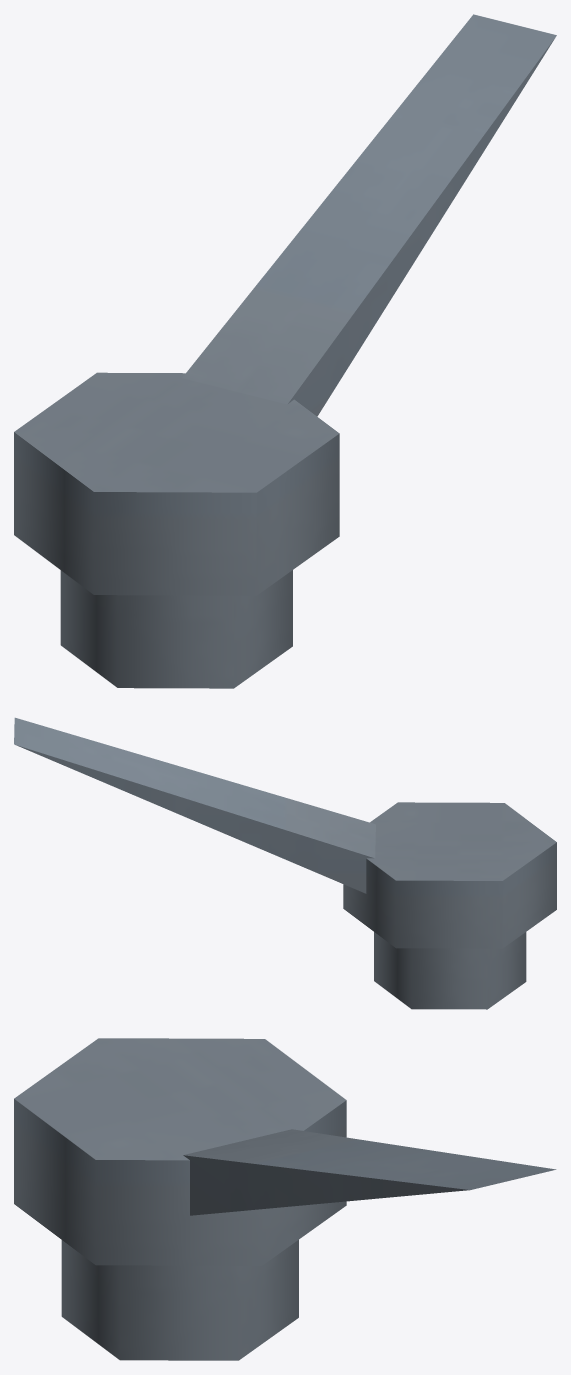
The model's file is Manija_Washbasin.glb.
3 views of the same model, one above another, from view 1: azimuth 30°, elevation 25°; view 2: azimuth 150°, elevation 25°; view 3: azimuth 270°, elevation 25° (orthographic). The views are drawn at different scales.
Parts seen in each view (by area): view 1: Manija_Washbasin; view 2: Manija_Washbasin; view 3: Manija_Washbasin.
Part boxes in pixels (x1=…): Manija_Washbasin: x1=14, y1=14, x2=556, y2=688; Manija_Washbasin: x1=14, y1=717, x2=556, y2=1009; Manija_Washbasin: x1=14, y1=1038, x2=556, y2=1360.
Bounding box in the file's own units: 0.1197 × 0.0672 × 0.0854.
Materials: 1 (1 with a texture image).
